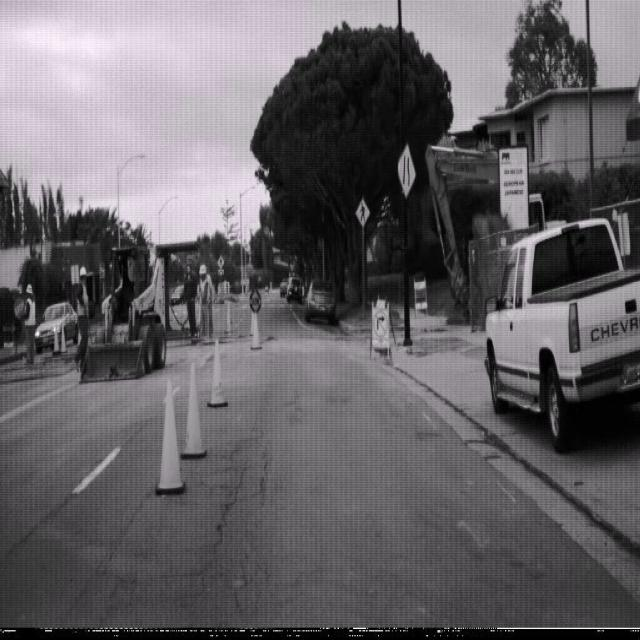pedestrianCrossing: (355, 196, 371, 229)
